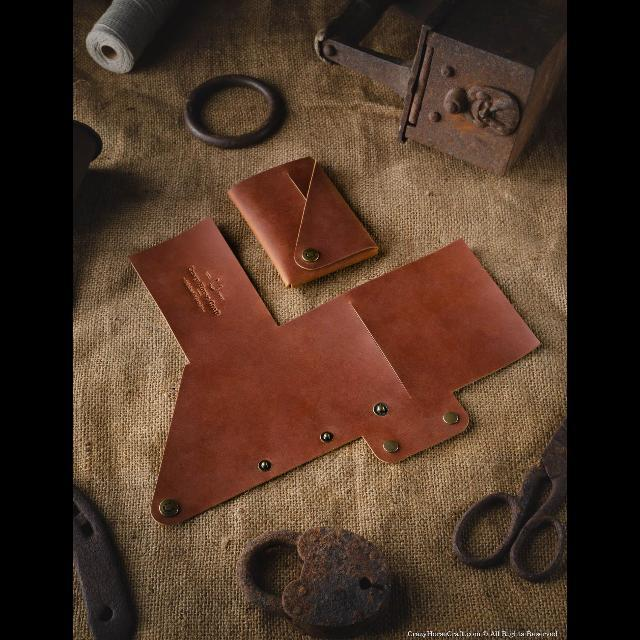wallet: (222, 152, 388, 292)
